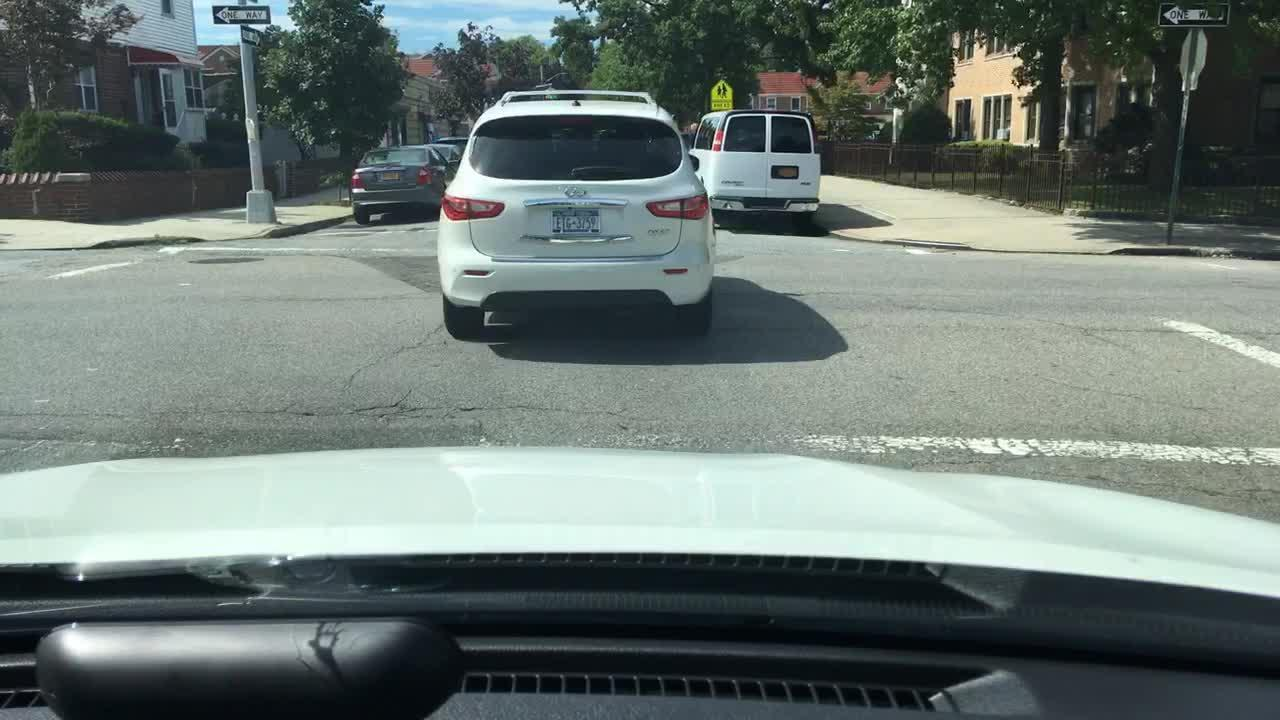lexus: (561, 184, 593, 199)
